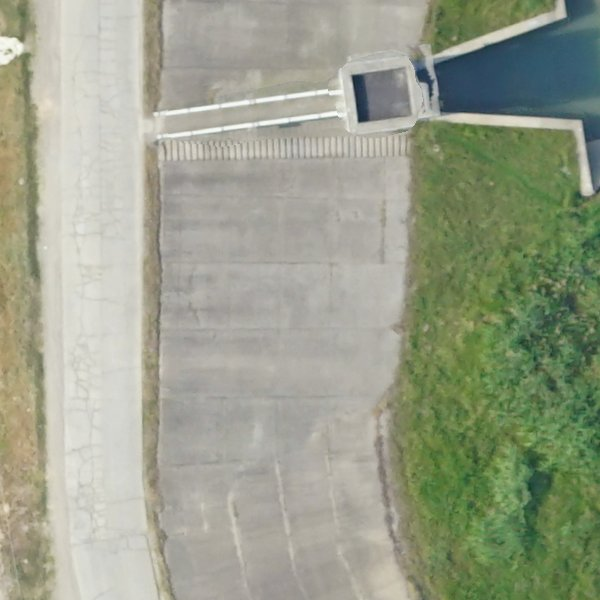Type1: (340, 9, 590, 145)
